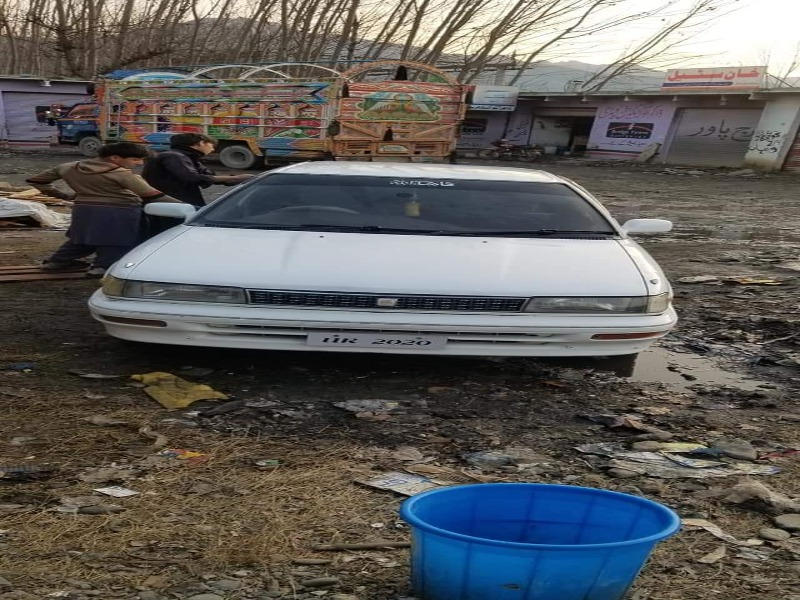License Plate: (301, 328, 452, 355)
